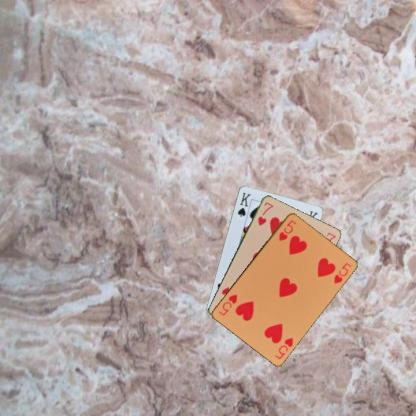5h: (272, 334, 295, 360), (276, 217, 298, 242)
7h: (255, 199, 274, 226)
Ks: (234, 189, 252, 218)
